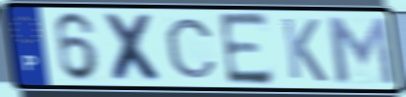6: (52, 9, 103, 84)
C: (162, 16, 220, 81)
E: (215, 11, 277, 88)
K: (279, 15, 330, 84)
M: (323, 14, 399, 87)
X: (100, 11, 169, 84)
